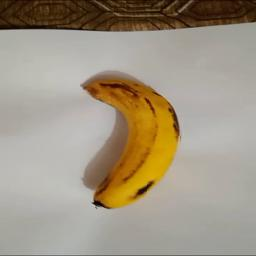Banana Semifresh: (81, 69, 182, 210)
